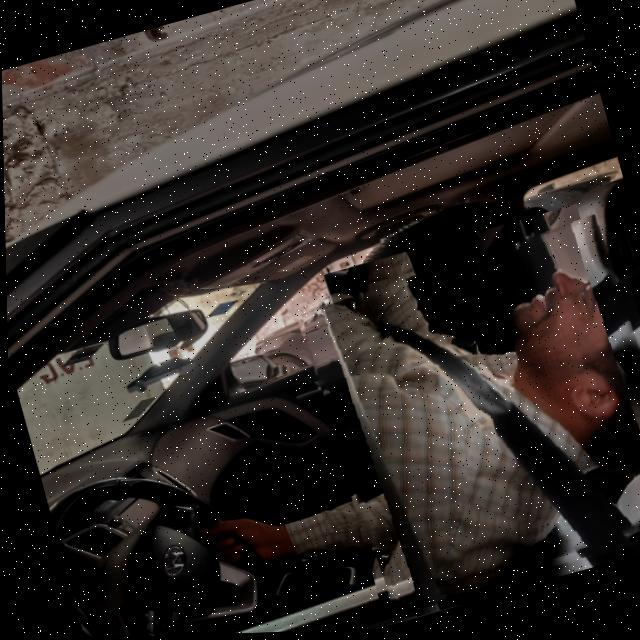seatbelt: (295, 218, 640, 619)
